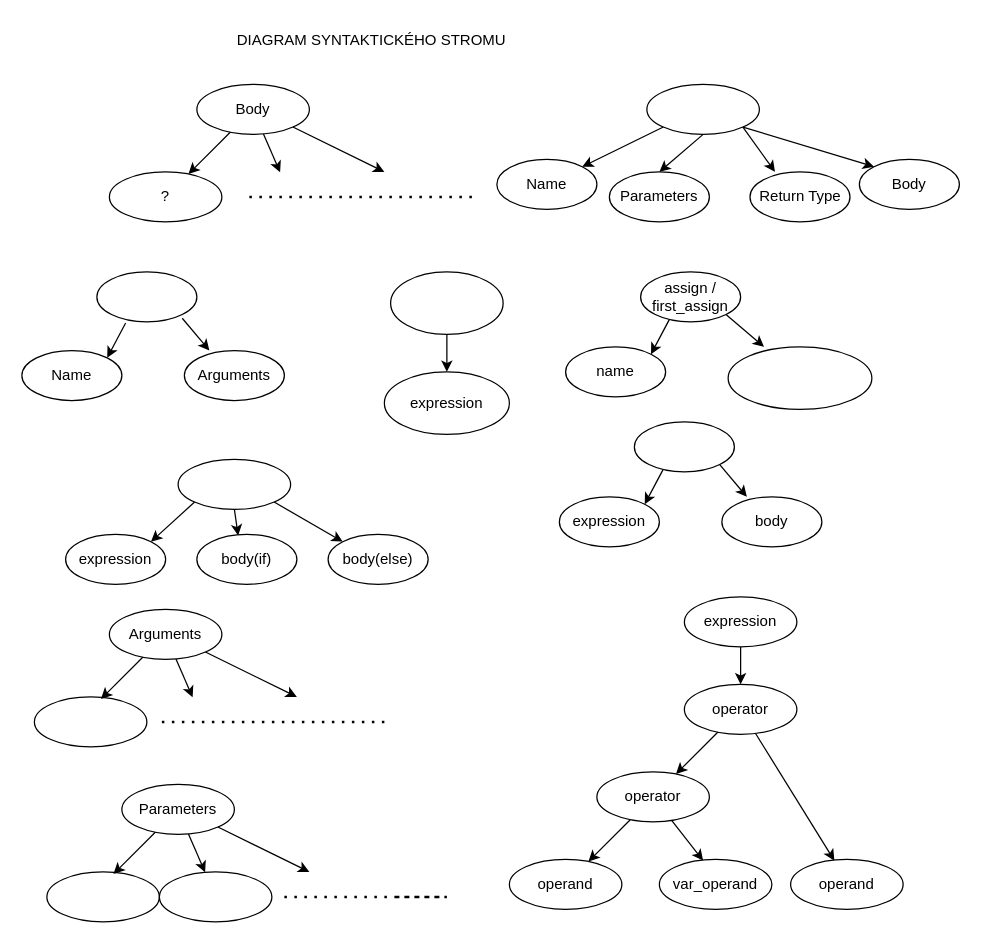
Image size: 981x944. Some labels were removed from this diagram. Each missing label, with the centre of its shape:
expression/func_call: point 799,377
Function Call: point 146,296
Function Declaration: point 702,108
if: point 234,483
int_parameter: point 215,896
return: point 446,302
str_parameter: point 102,896
Terminál / Variable: point 90,721
while(): point 683,446
